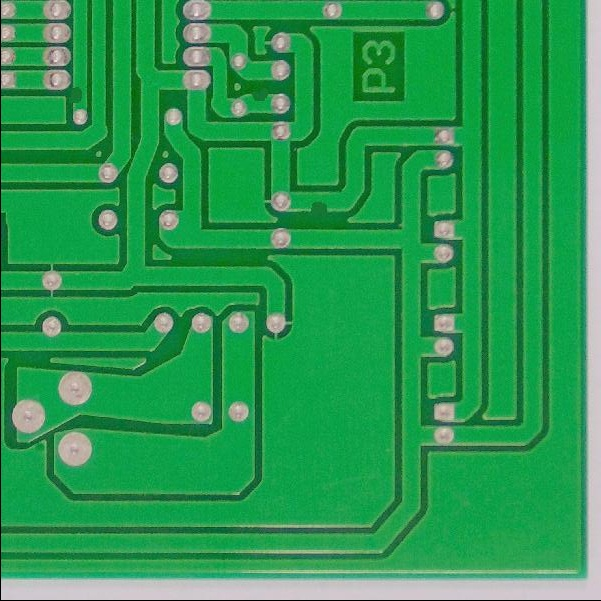mouse_bite: (303, 192, 333, 219), (67, 80, 88, 115), (245, 89, 272, 107)
